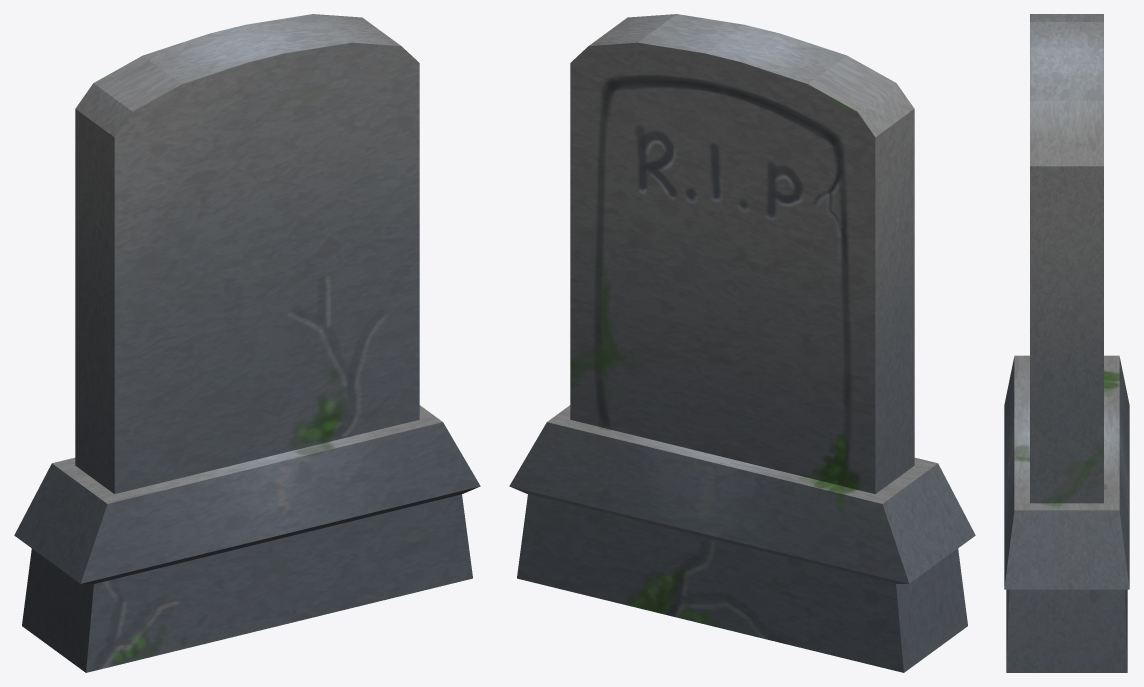
File: nisan.fbx
3 renders of one model, left to right at view 1: azimuth 30°, elevation 25°; view 2: azimuth 150°, elevation 25°; view 3: azimuth 270°, elevation 25°, orthographic. The views are drawn at different scales.
Visible parts, largest first — view 1: Cube; view 2: Cube; view 3: Cube.
Part boxes in pixels (x1=…): Cube: x1=14, y1=14, x2=480, y2=672; Cube: x1=509, y1=14, x2=975, y2=672; Cube: x1=1004, y1=14, x2=1129, y2=672.
Bounding box in the file's own units: 224 × 299 × 64.36.
Materials: 1 (1 with a texture image).
